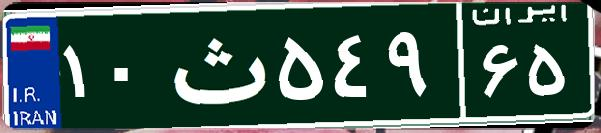0: (110, 28, 158, 105)
1: (57, 26, 110, 107)
4: (330, 28, 385, 110)
5: (273, 28, 330, 110), (525, 38, 570, 115)
6: (475, 38, 525, 113)
9: (385, 28, 445, 110)
ث: (158, 15, 273, 115)
